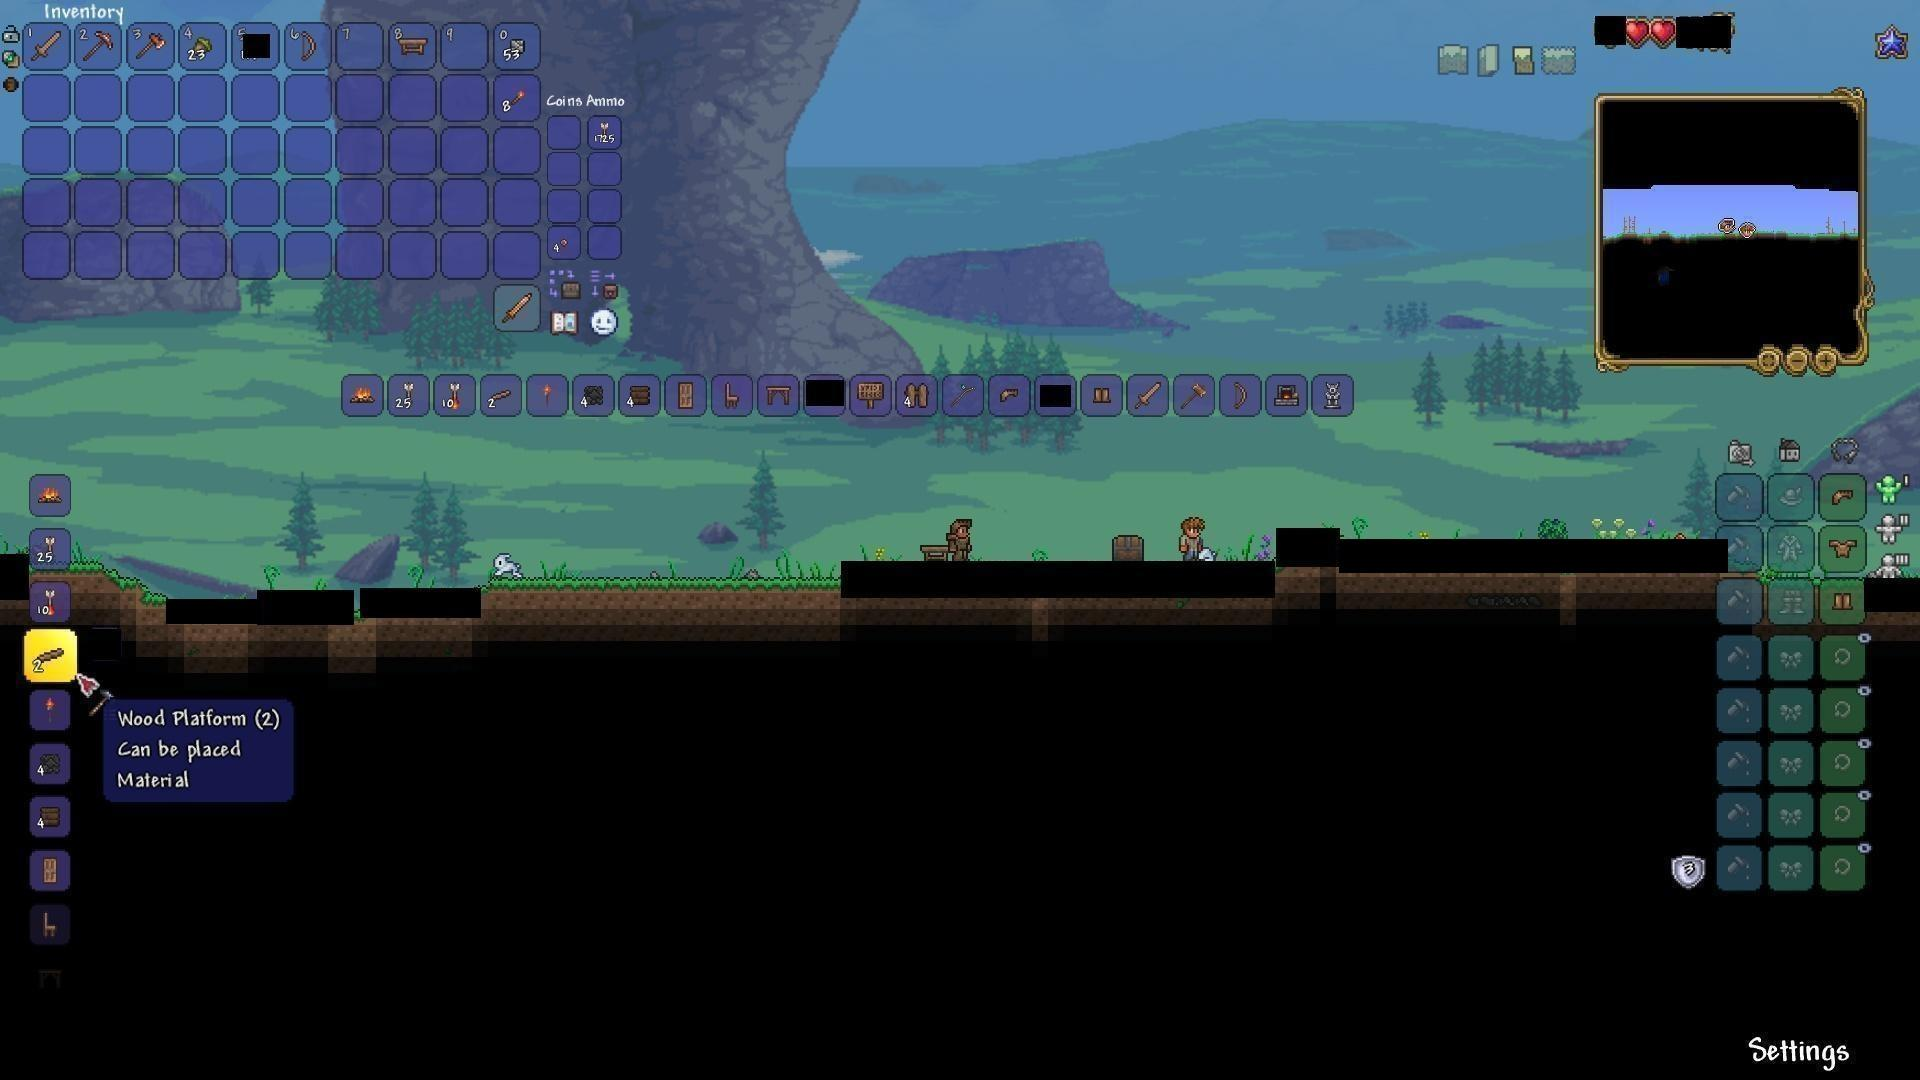breastplate: (1829, 537, 1859, 559)
dirt: (484, 572, 843, 607), (76, 560, 164, 618)
heart: (1648, 17, 1676, 47), (1625, 17, 1651, 46)
helmet: (1826, 481, 1859, 512), (994, 382, 1025, 410)
legs: (1091, 381, 1116, 409), (1832, 589, 1855, 617)
workbench: (394, 36, 431, 61), (918, 541, 955, 564)
